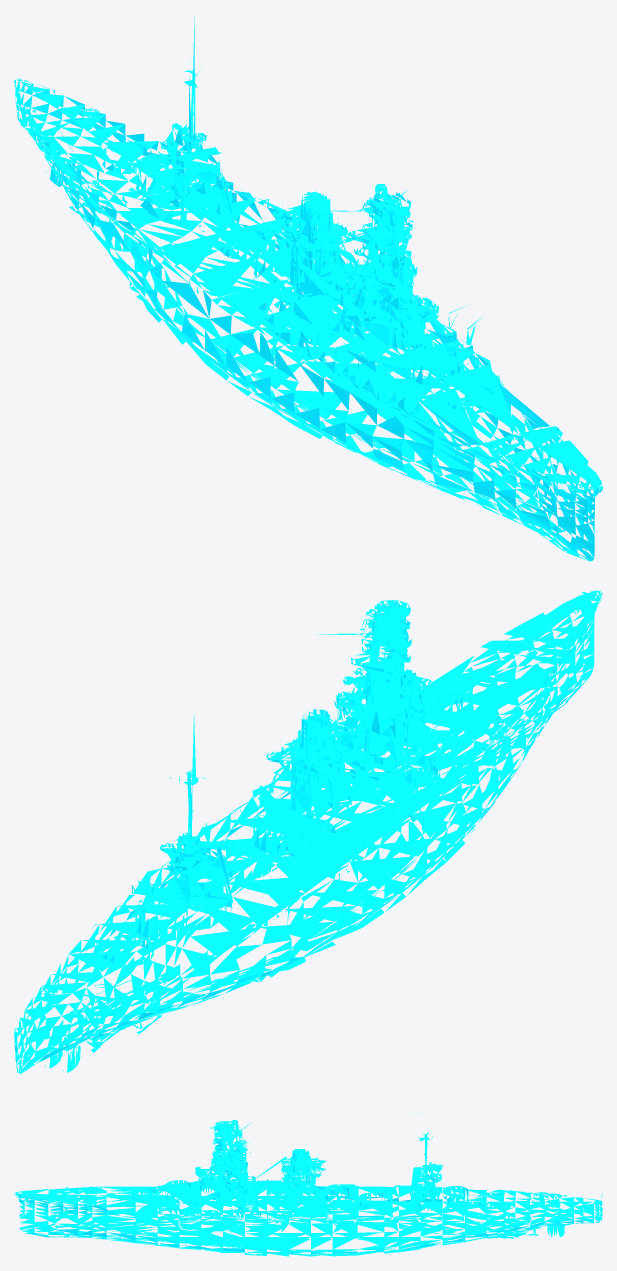
Rendered from Hyuga.glb.
3 renders of one model, top to bottom at view 1: azimuth 30°, elevation 25°; view 2: azimuth 150°, elevation 25°; view 3: azimuth 270°, elevation 25°, orthographic. The views are drawn at different scales.
Bounding box in the file's own units: 2.25 × 3.6 × 14.36.
